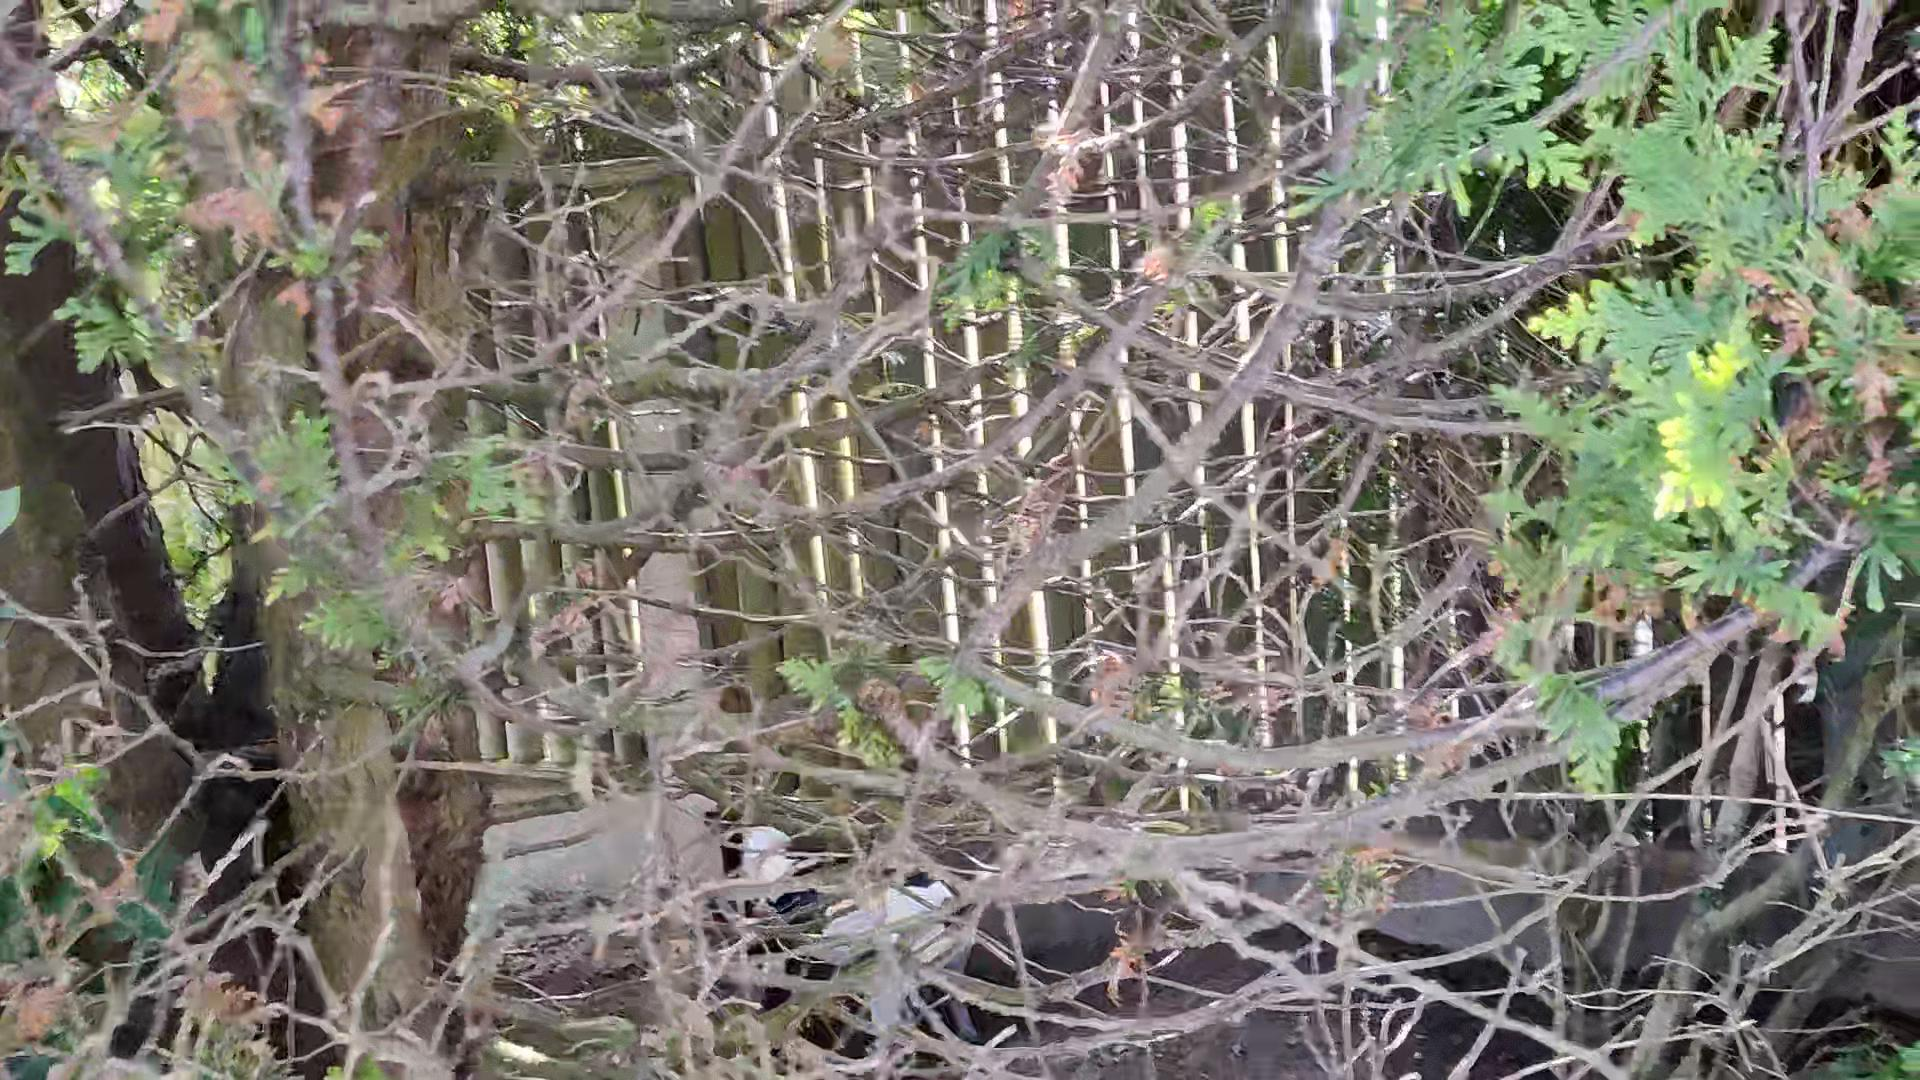Dog: (698, 779, 990, 1067)
